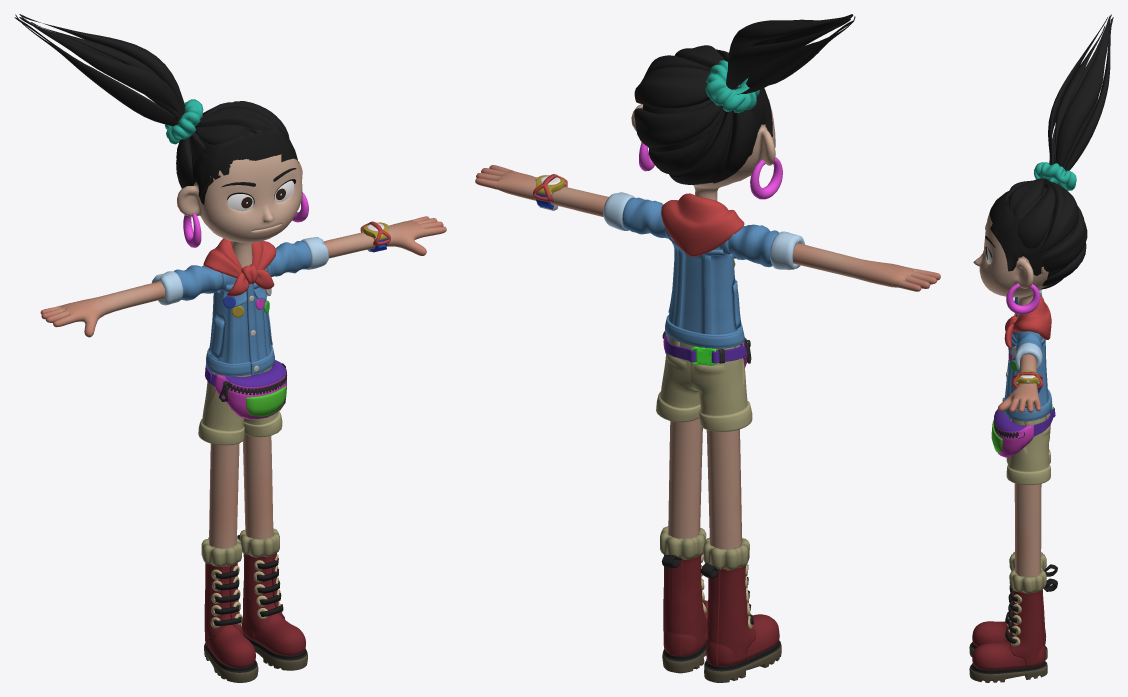
The model's file is E03-Ellie-BlenderStudio-R83.glb.
3 renders of one model, left to right at view 1: azimuth 30°, elevation 25°; view 2: azimuth 150°, elevation 25°; view 3: azimuth 270°, elevation 25°, orthographic. The views are drawn at different scales.
Visible parts, largest first — view 1: R83_GEO-ellie_boots, R83_GEO-ellie_body, R83_GEO-ellie_hair.groom_base, R83_GEO-ellie_jacket, R83_GEO-ellie_head, R83_GEO-ellie_hair.scalp, R83_GEO-ellie_trousers, R83_GEO-ellie_fannypack_main, R83_GEO-ellie_handkerchief, R83_GEO-ellie_scrunchy, R83_GEO-ellie_earrings; view 2: R83_GEO-ellie_hair.groom_base, R83_GEO-ellie_body, R83_GEO-ellie_boots, R83_GEO-ellie_jacket, R83_GEO-ellie_trousers, R83_GEO-ellie_handkerchief, R83_GEO-ellie_head, R83_GEO-ellie_scrunchy, R83_GEO-ellie_earrings, R83_GEO-ellie_hair.scalp, R83_GEO-ellie_watch, R83_GEO-ellie_fannypack_strap; view 3: R83_GEO-ellie_hair.groom_base, R83_GEO-ellie_boots, R83_GEO-ellie_body, R83_GEO-ellie_head, R83_GEO-ellie_jacket, R83_GEO-ellie_trousers, R83_GEO-ellie_hair.scalp, R83_GEO-ellie_fannypack_main, R83_GEO-ellie_handkerchief, R83_GEO-ellie_scrunchy, R83_GEO-ellie_earrings, R83_GEO-ellie_watch (+1 smaller).
Boxes of the visible parts, left/top/right/bottom form: R83_GEO-ellie_boots: left=201, top=528, right=307, bottom=682; R83_GEO-ellie_body: left=40, top=216, right=446, bottom=548; R83_GEO-ellie_hair.groom_base: left=14, top=14, right=289, bottom=188; R83_GEO-ellie_jacket: left=151, top=237, right=328, bottom=376; R83_GEO-ellie_head: left=177, top=123, right=302, bottom=267; R83_GEO-ellie_hair.scalp: left=192, top=125, right=298, bottom=204; R83_GEO-ellie_trousers: left=198, top=366, right=282, bottom=445; R83_GEO-ellie_fannypack_main: left=215, top=360, right=286, bottom=419; R83_GEO-ellie_handkerchief: left=203, top=238, right=276, bottom=296; R83_GEO-ellie_scrunchy: left=165, top=99, right=203, bottom=144; R83_GEO-ellie_earrings: left=183, top=192, right=308, bottom=247; R83_GEO-ellie_hair.groom_base: left=634, top=14, right=855, bottom=184; R83_GEO-ellie_body: left=475, top=165, right=940, bottom=549; R83_GEO-ellie_boots: left=660, top=526, right=781, bottom=682; R83_GEO-ellie_jacket: left=603, top=192, right=804, bottom=348; R83_GEO-ellie_trousers: left=656, top=337, right=752, bottom=431; R83_GEO-ellie_handkerchief: left=661, top=193, right=744, bottom=256; R83_GEO-ellie_head: left=631, top=55, right=775, bottom=200; R83_GEO-ellie_scrunchy: left=705, top=60, right=759, bottom=112; R83_GEO-ellie_earrings: left=639, top=142, right=782, bottom=199; R83_GEO-ellie_hair.scalp: left=647, top=55, right=772, bottom=168; R83_GEO-ellie_watch: left=533, top=174, right=567, bottom=210; R83_GEO-ellie_fannypack_strap: left=665, top=335, right=745, bottom=363; R83_GEO-ellie_hair.groom_base: left=1005, top=14, right=1113, bottom=289; R83_GEO-ellie_boots: left=969, top=551, right=1057, bottom=682; R83_GEO-ellie_body: left=997, top=354, right=1041, bottom=577; R83_GEO-ellie_head: left=973, top=187, right=1078, bottom=319; R83_GEO-ellie_jacket: left=1002, top=290, right=1052, bottom=421; R83_GEO-ellie_trousers: left=1006, top=413, right=1050, bottom=484; R83_GEO-ellie_hair.scalp: left=989, top=193, right=1075, bottom=275; R83_GEO-ellie_fannypack_main: left=991, top=409, right=1033, bottom=457; R83_GEO-ellie_handkerchief: left=1004, top=295, right=1051, bottom=348; R83_GEO-ellie_scrunchy: left=1034, top=162, right=1076, bottom=190; R83_GEO-ellie_earrings: left=1006, top=283, right=1040, bottom=314; R83_GEO-ellie_watch: left=1012, top=370, right=1043, bottom=393.
Bounding box in the file's own units: 1 × 1.56 × 0.355.
Materials: 50 (1 with a texture image).
